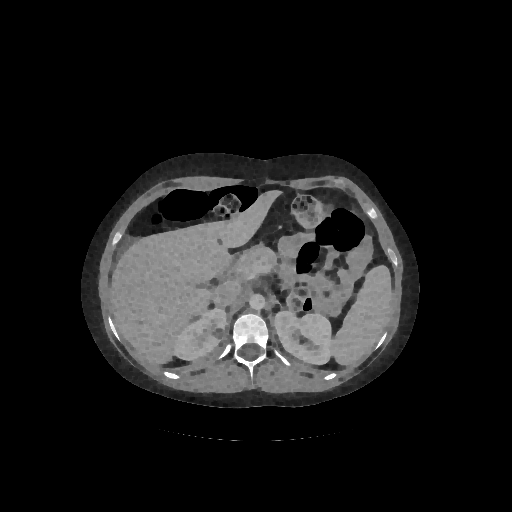Lesion: (207, 326, 226, 342)
